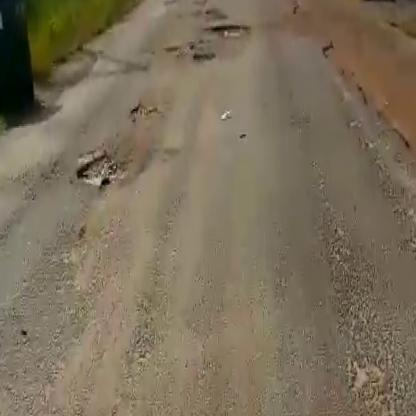pothole: (70, 147, 140, 196), (208, 18, 252, 37), (191, 50, 216, 65)
